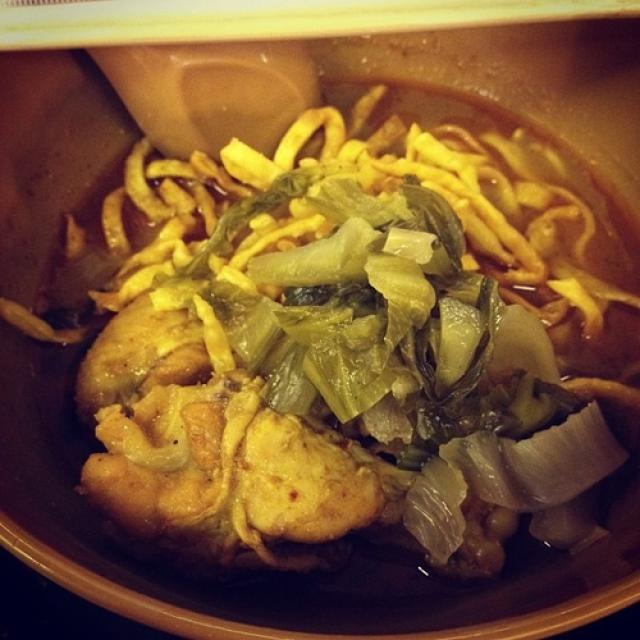面条主食: (23, 74, 634, 613)
